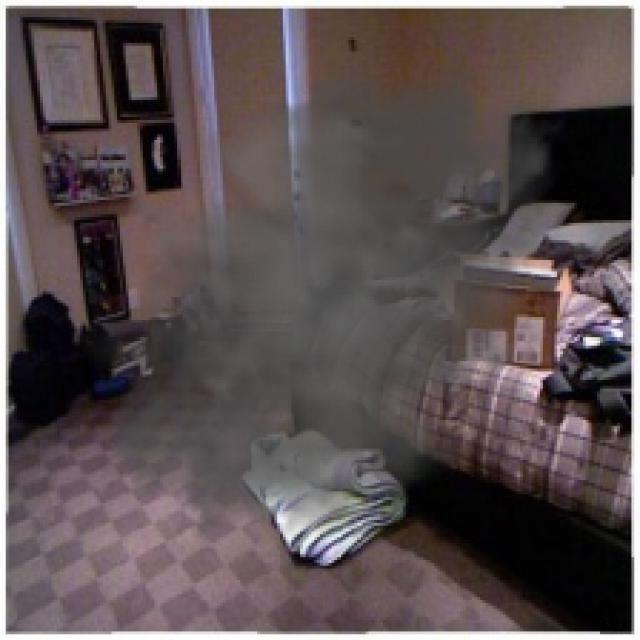smoke: (71, 23, 592, 577)
